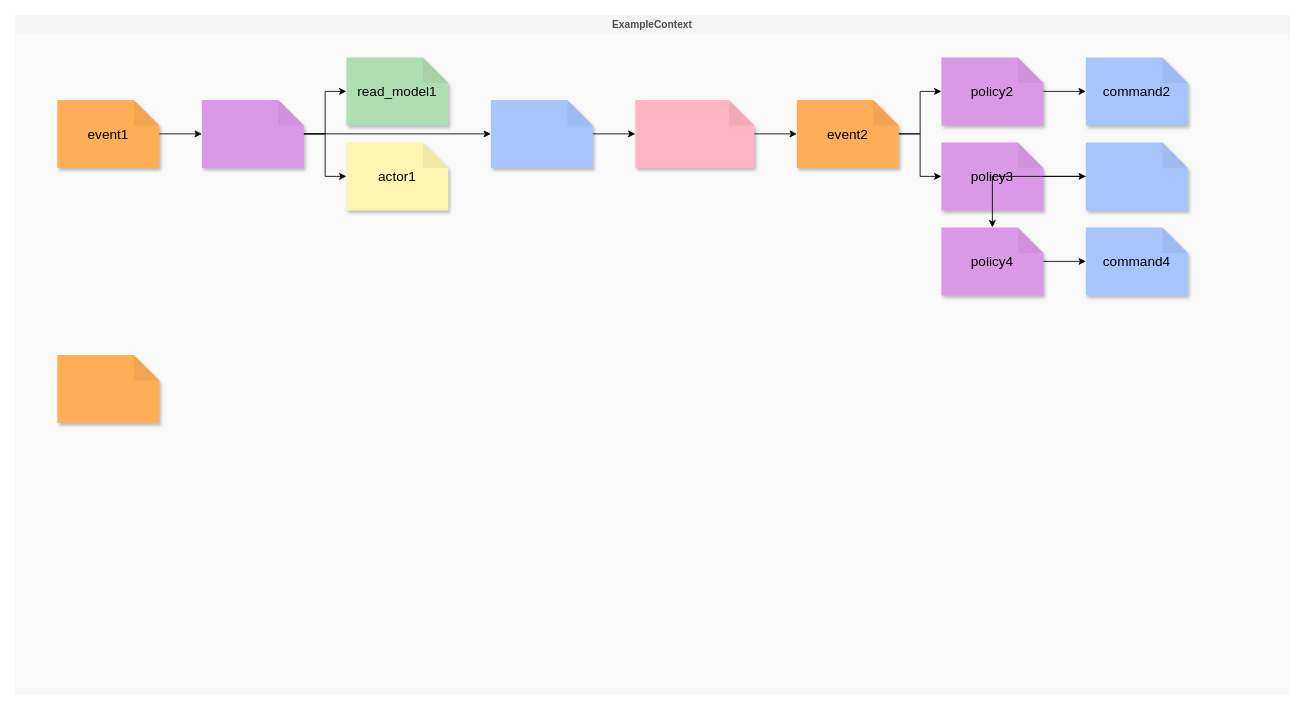
The diagram is 1304 pixels wide and 709 high, and some of its shapes have lost their labels. The centre of each missing label's shape, as x and y in pixels:
aggregate1 | external_system1: pixel 695 134
command1: pixel 542 134
command3: pixel 1137 177
event3: pixel 109 389
policy1: pixel 253 134
